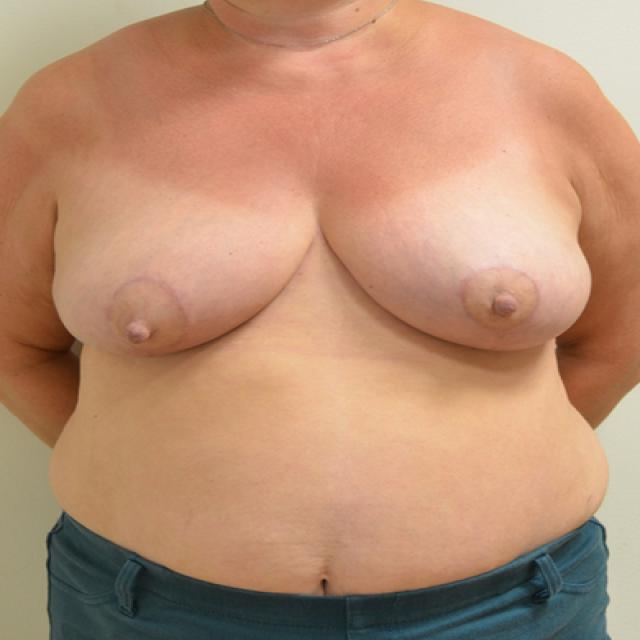Seno ileso: (45, 169, 316, 370), (325, 170, 599, 365)
